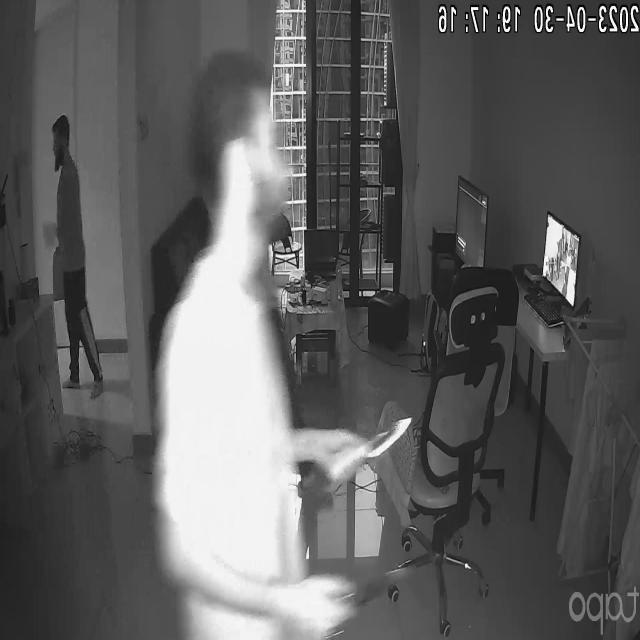Knife: (331, 406, 418, 476)
